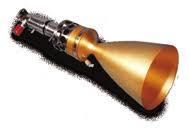thruster: (92, 39, 180, 111)
